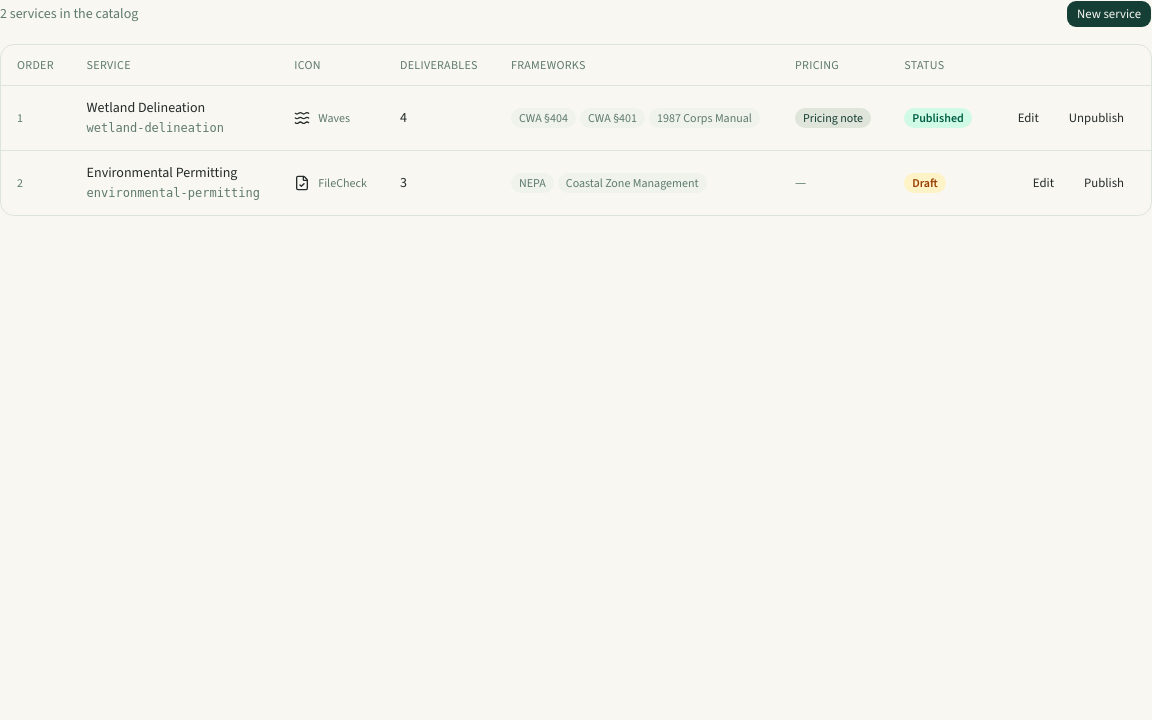
it: ServiceEditorDrawer › surfaces validation errors on required fields without touching the database
Click the button "New service". click: [1109, 14]
box: left=1066, top=0, right=1151, bottom=28
(page scrolled)
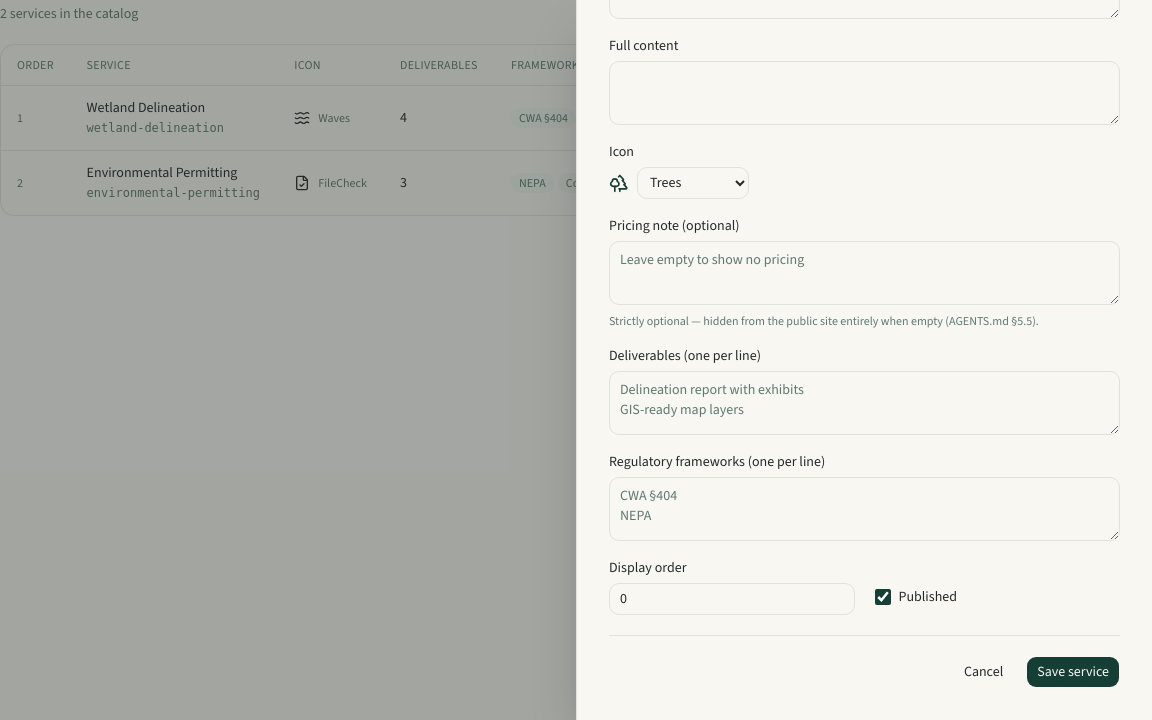
Click the button "Save service". click: [1073, 672]
box: left=1026, top=656, right=1120, bottom=688
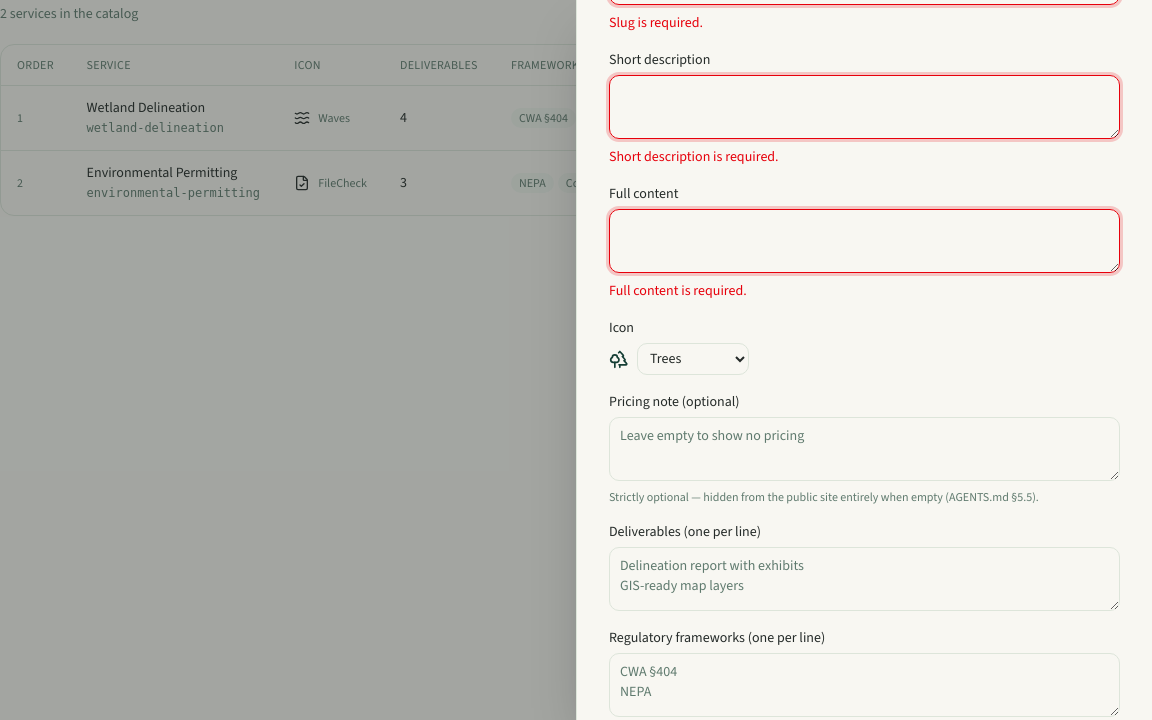
expect the text "Slug is required." is shown: met, box left=609, top=12, right=703, bottom=32
expect the text "Short description is required." is shown: met, box left=609, top=146, right=779, bottom=166
expect the text "Full content is required." is shown: met, box left=609, top=280, right=747, bottom=300
